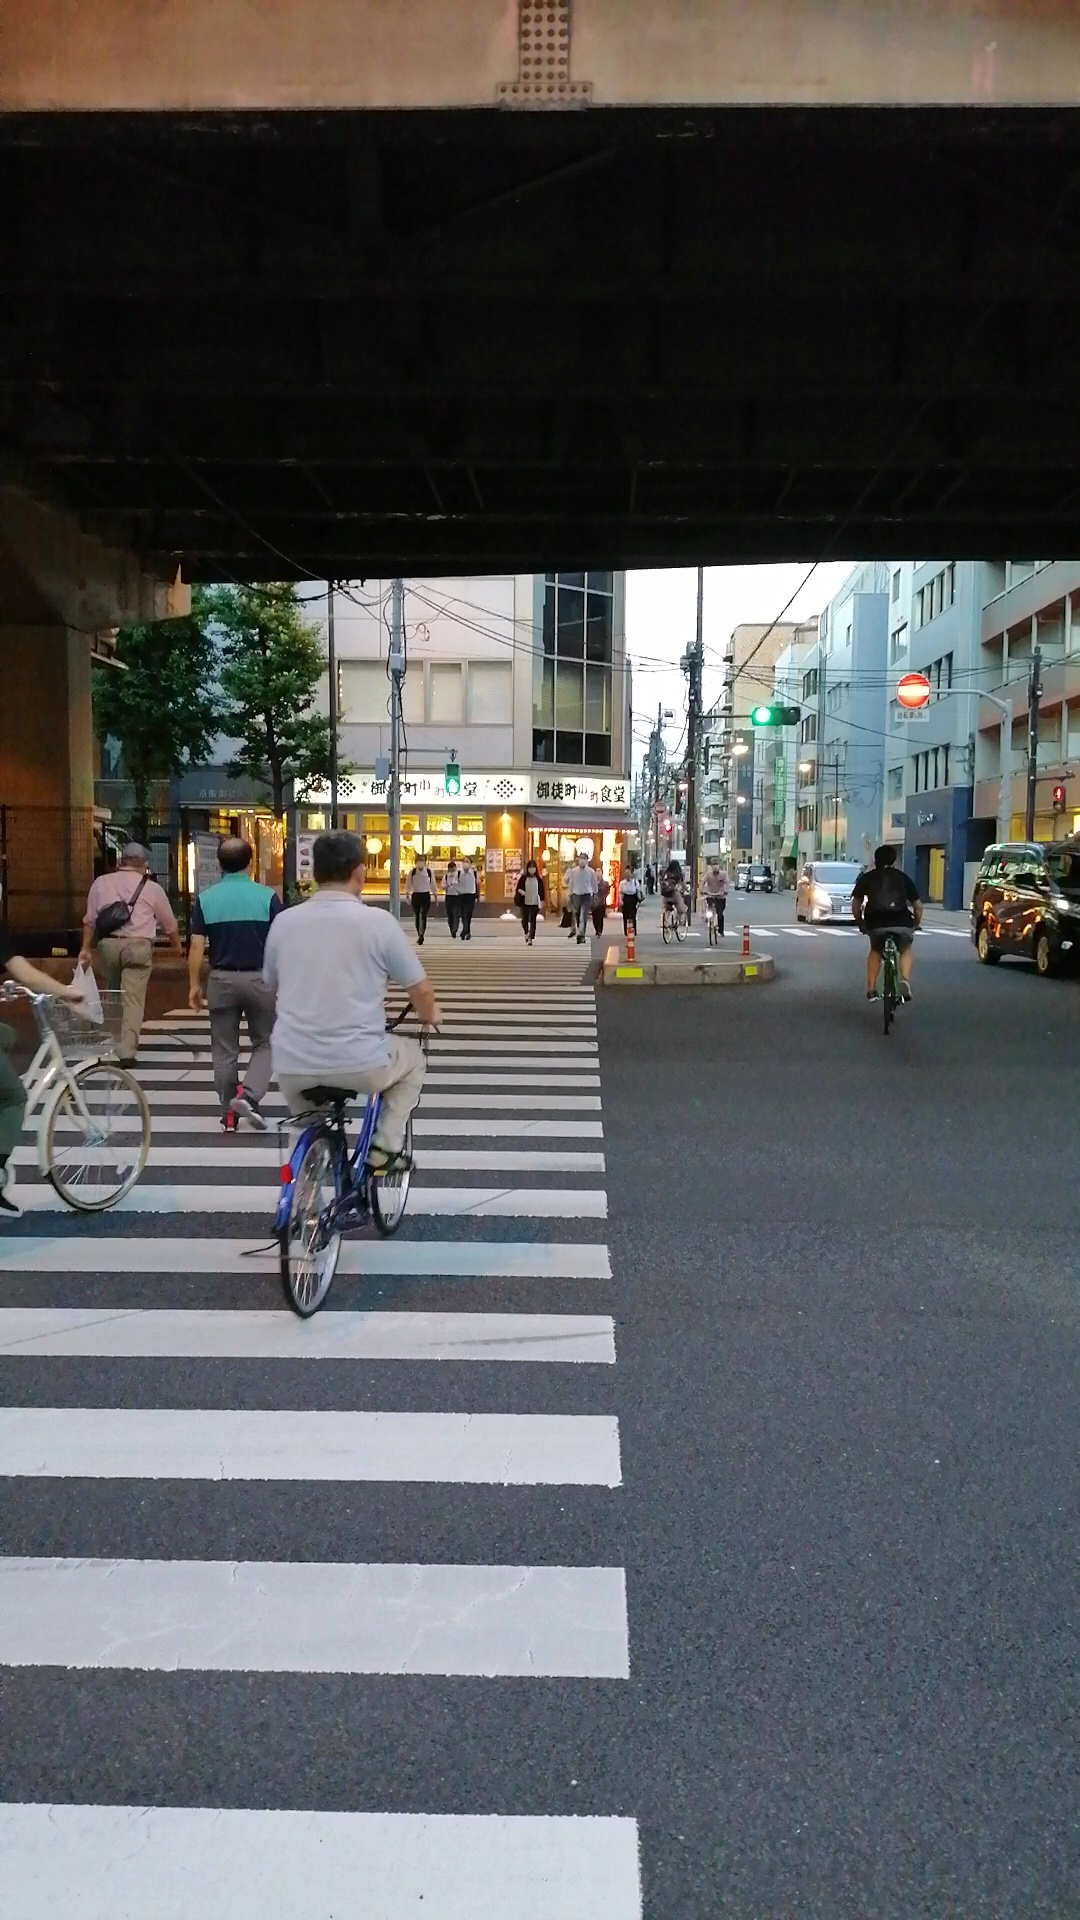green: (442, 761, 462, 796)
